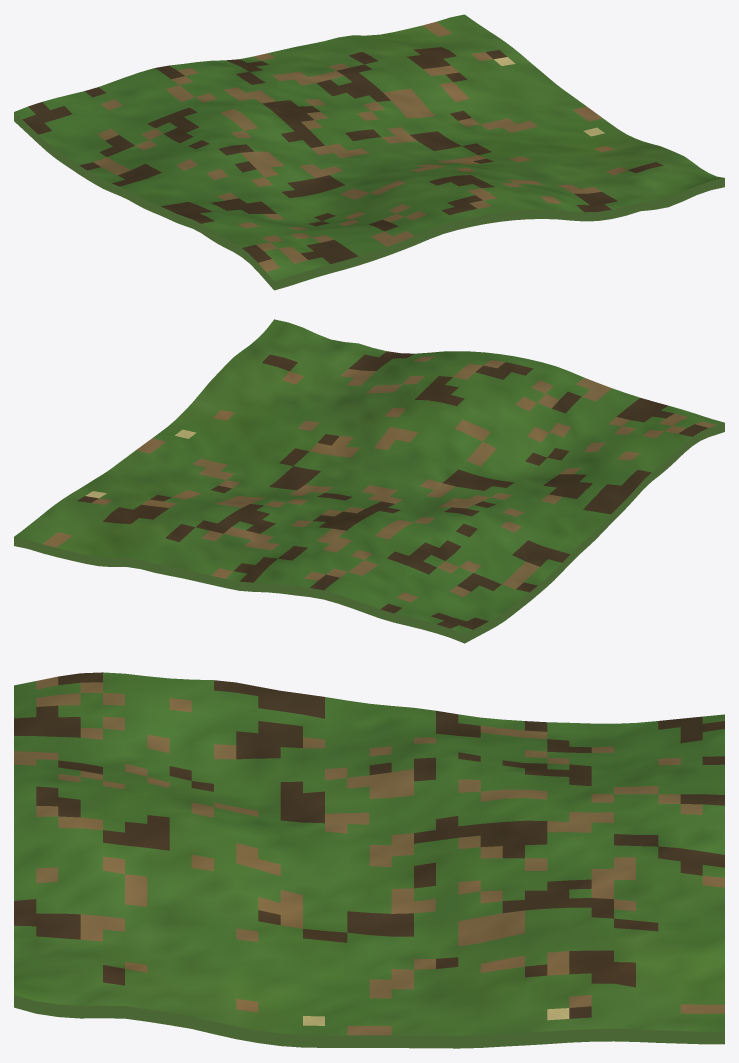
File: chunk_1_7_lod1.glb
3 renders of one model, top to bottom at view 1: azimuth 30°, elevation 25°; view 2: azimuth 150°, elevation 25°; view 3: azimuth 270°, elevation 25°, orthographic. The views are drawn at different scales.
Visible parts, largest first — view 1: Surface_Grass, Surface_Mud, Surface_Dirt, Skirt; view 2: Surface_Grass, Surface_Mud, Surface_Dirt, Skirt; view 3: Surface_Grass, Surface_Mud, Surface_Dirt, Skirt.
Part boxes in pixels (x1=…): Surface_Grass: x1=14, y1=14, x2=723, y2=281; Surface_Mud: x1=22, y1=47, x2=663, y2=264; Surface_Dirt: x1=93, y1=21, x2=627, y2=271; Skirt: x1=14, y1=112, x2=724, y2=290; Surface_Grass: x1=14, y1=319, x2=724, y2=634; Surface_Mud: x1=77, y1=351, x2=707, y2=629; Surface_Dirt: x1=42, y1=356, x2=716, y2=602; Skirt: x1=14, y1=423, x2=724, y2=643; Surface_Grass: x1=14, y1=672, x2=724, y2=1035; Surface_Mud: x1=14, y1=672, x2=724, y2=1018; Surface_Dirt: x1=14, y1=676, x2=724, y2=1035; Skirt: x1=14, y1=995, x2=724, y2=1048.
Bounding box in the file's own units: 256 × 33.43 × 256.
